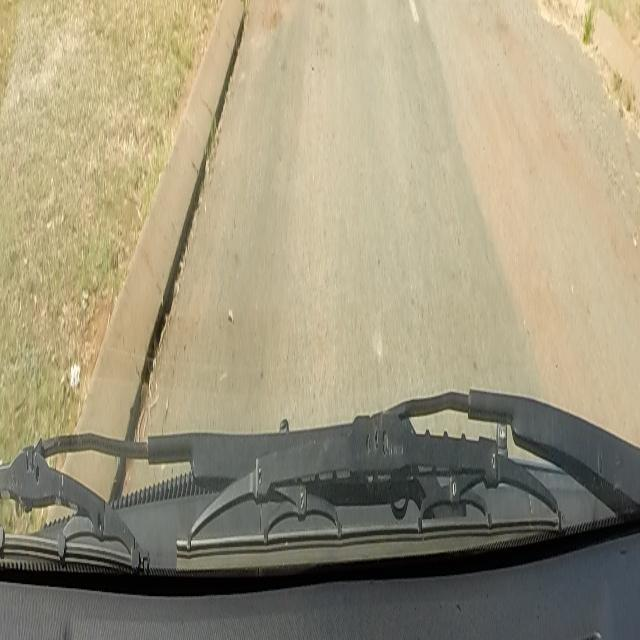pothole: (262, 2, 282, 38)
